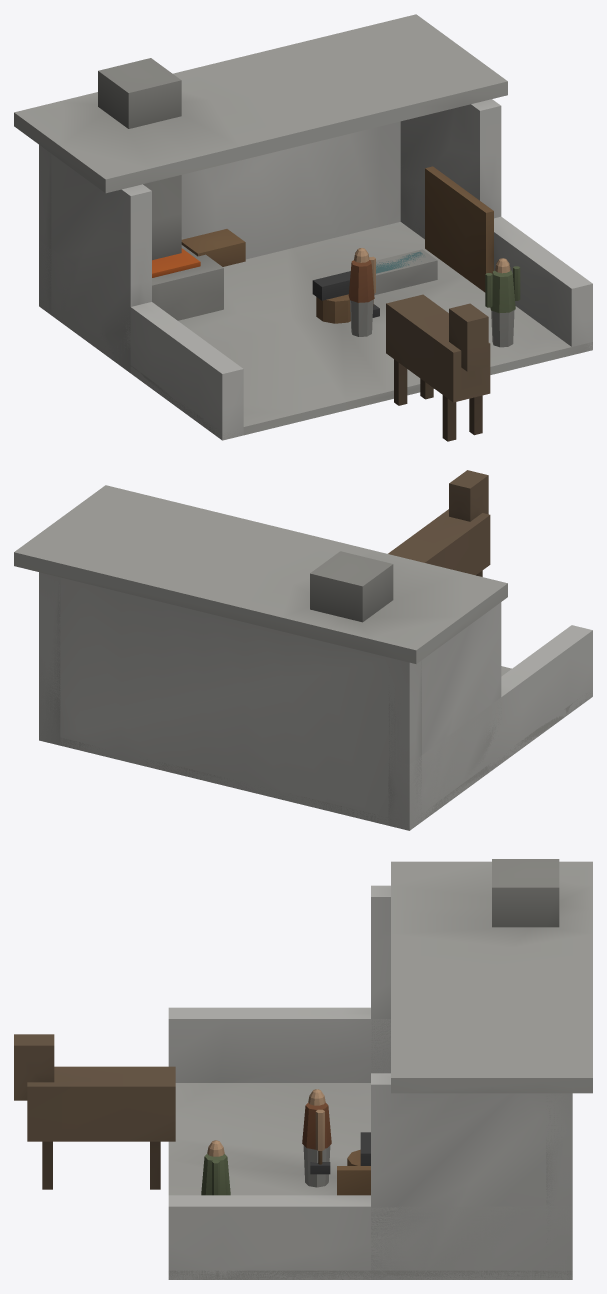
Rendered from forge.glb.
3 renders of one model, top to bottom at view 1: azimuth 30°, elevation 25°; view 2: azimuth 150°, elevation 25°; view 3: azimuth 270°, elevation 25°, orthographic. The views are drawn at different scales.
Parts seen in each view (by area): view 1: base; view 2: base; view 3: base, anim_hammer.
Part boxes in pixels (x1,y1,x2,y2): base: (14, 14, 592, 441); base: (14, 470, 592, 830); base: (14, 859, 592, 1279); anim_hammer: (310, 1109, 330, 1174).
Bounding box in the file's own units: 7.6 × 4.1 × 8.6.
